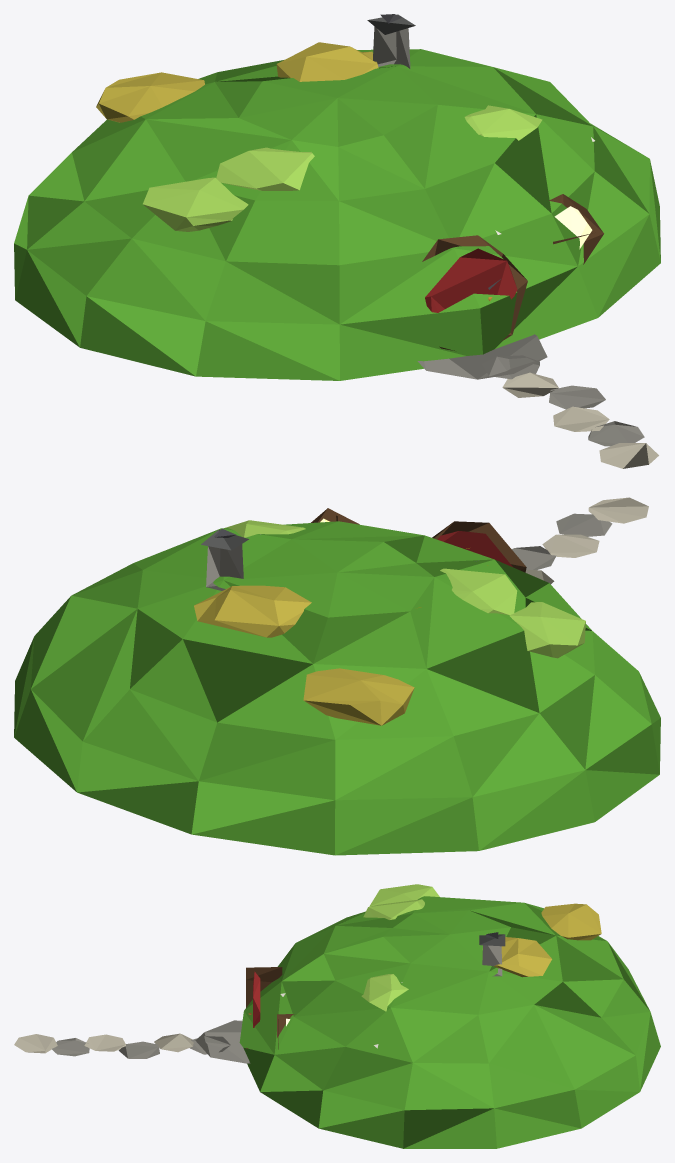
The model's file is hobbit_hole_2_lod1.glb.
3 views of the same model, one above another, from view 1: azimuth 30°, elevation 25°; view 2: azimuth 150°, elevation 25°; view 3: azimuth 270°, elevation 25° (orthographic). The views are drawn at different scales.
Parts seen in each view (by area): view 1: hobbit_hole_2_lod1; view 2: hobbit_hole_2_lod1; view 3: hobbit_hole_2_lod1.
Boxes of the visible parts, box(x1,y1,x2,y2) form: hobbit_hole_2_lod1: box(14, 14, 660, 468); hobbit_hole_2_lod1: box(14, 497, 660, 855); hobbit_hole_2_lod1: box(14, 884, 660, 1148).
Size of the model in its own units: 13.26 by 4.27 by 17.73.
